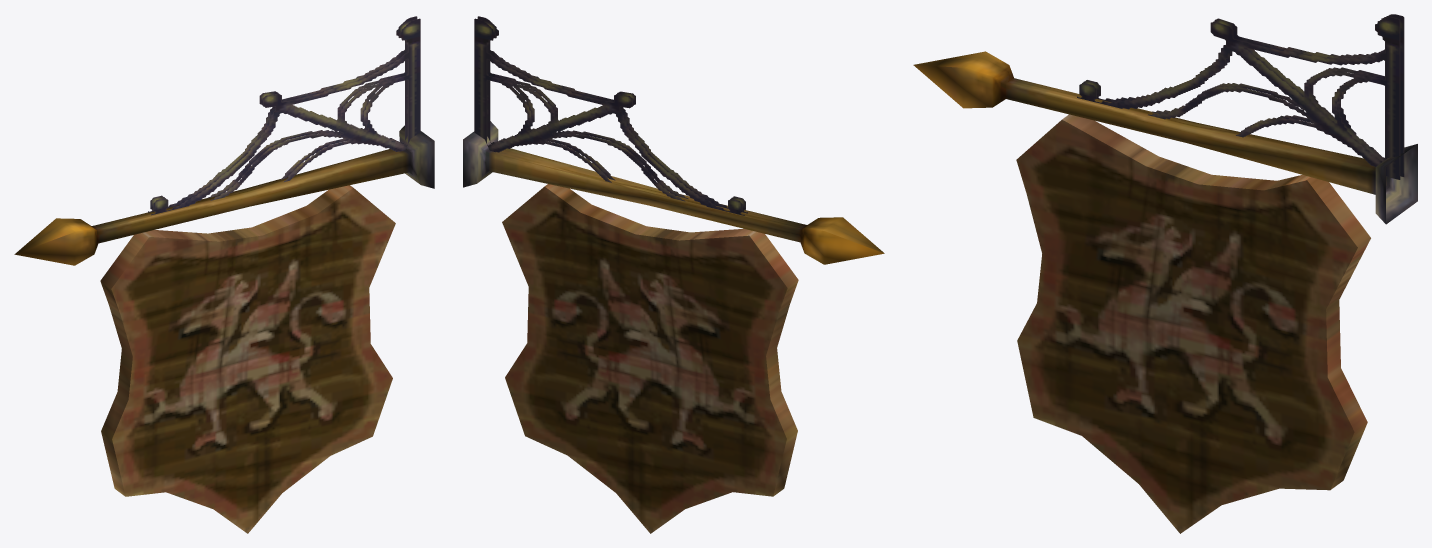
Rendered from INST_LT_GRIF_SIGN_01.fbx.
3 renders of one model, left to right at view 1: azimuth 30°, elevation 25°; view 2: azimuth 150°, elevation 25°; view 3: azimuth 330°, elevation 25°, orthographic. The views are drawn at different scales.
Parts seen in each view (by area): view 1: INST_LT_GRIF_SIGN_01; view 2: INST_LT_GRIF_SIGN_01; view 3: INST_LT_GRIF_SIGN_01.
Part boxes in pixels (x1,y1,x2,y2): INST_LT_GRIF_SIGN_01: (14, 16, 434, 533); INST_LT_GRIF_SIGN_01: (463, 16, 884, 533); INST_LT_GRIF_SIGN_01: (913, 14, 1417, 533).
Size of the model in its own units: 14893 by 16439 by 1677.
2 materials, 2 textured.
